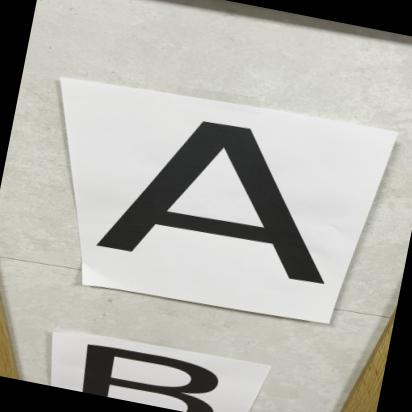seat: (72, 85, 394, 337)
